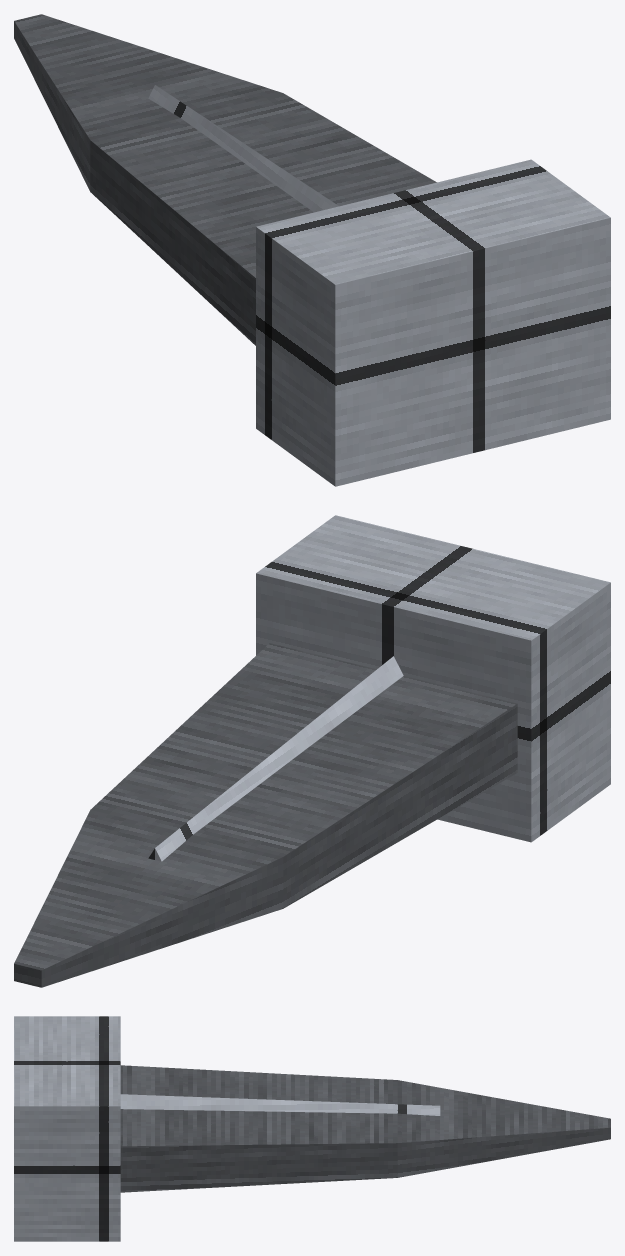
Rendered from blade_kestrel.glb.
3 renders of one model, top to bottom at view 1: azimuth 30°, elevation 25°; view 2: azimuth 150°, elevation 25°; view 3: azimuth 270°, elevation 25°, orthographic. The views are drawn at different scales.
Parts seen in each view (by area): view 1: bracket, blade, spine; view 2: blade, bracket, spine; view 3: blade, bracket, spine.
Part boxes in pixels (bbox=[...]): bracket: bbox=[256, 159, 610, 486]; blade: bbox=[14, 14, 436, 345]; spine: bbox=[148, 85, 338, 212]; blade: bbox=[14, 643, 517, 987]; bracket: bbox=[256, 515, 610, 842]; spine: bbox=[148, 656, 403, 861]; blade: bbox=[120, 1065, 610, 1192]; bracket: bbox=[14, 1016, 120, 1241]; spine: bbox=[120, 1094, 440, 1115].
Size of the model in its own units: 10 by 7 by 28.
3 materials, 3 textured.
